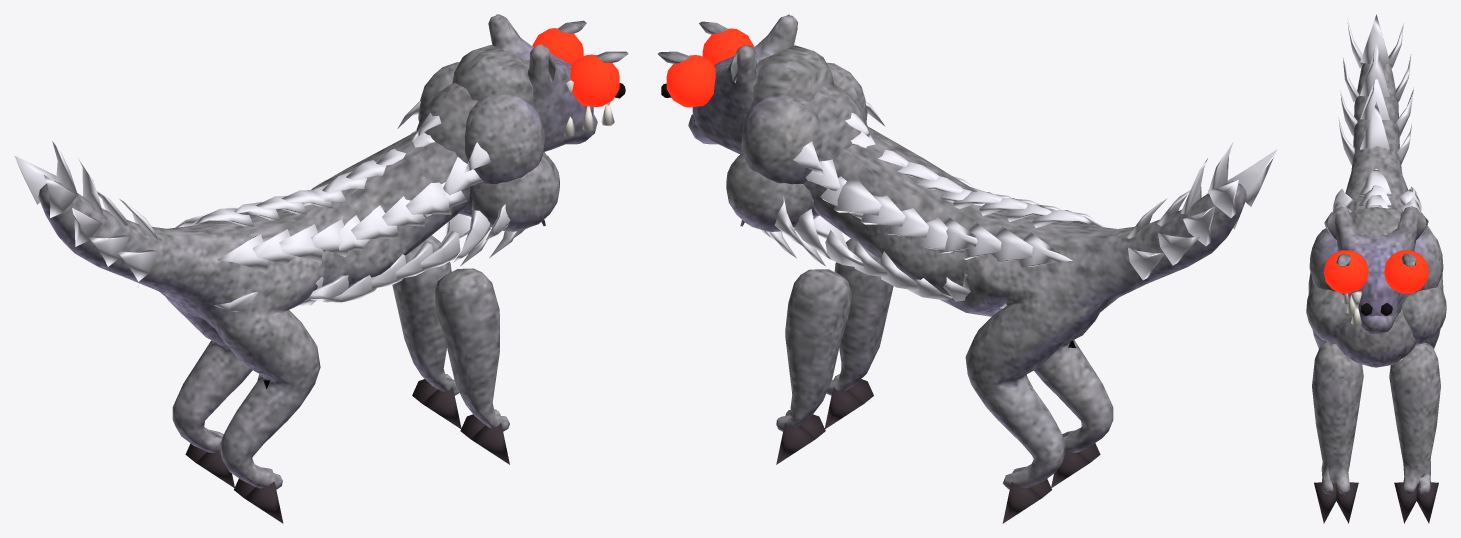
File: cadejo.glb
The picture shows the model from 3 angles, left to right: view 1: azimuth 30°, elevation 25°; view 2: azimuth 150°, elevation 25°; view 3: azimuth 270°, elevation 25°; orthographic projection. The views are drawn at different scales.
Visible parts, largest first — view 1: cadejo.001; view 2: cadejo.001; view 3: cadejo.001.
Part boxes in pixels (left/top/right/bottom): cadejo.001: left=14, top=14, right=628, bottom=523; cadejo.001: left=658, top=14, right=1277, bottom=523; cadejo.001: left=1306, top=14, right=1446, bottom=523.
Size of the model in its own units: 1.7 by 1.12 by 0.42.
Materials: 7 (1 with a texture image).
